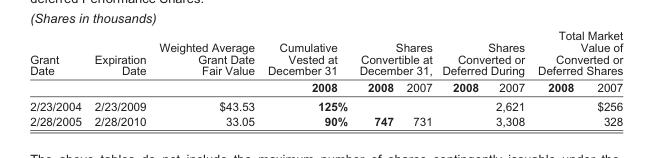table: (29, 28, 622, 126)
table column: (151, 28, 260, 126), (260, 28, 352, 126), (87, 28, 151, 126), (29, 28, 87, 126), (530, 28, 584, 126), (436, 28, 486, 126), (352, 28, 399, 126), (486, 28, 530, 126), (584, 28, 622, 126), (399, 28, 436, 126)
table column header: (29, 28, 622, 96)
table row: (29, 28, 622, 78), (29, 78, 622, 96), (29, 96, 622, 113), (29, 113, 622, 126)
table spanning cell: (151, 28, 260, 96), (260, 28, 352, 96), (436, 28, 530, 78), (530, 28, 622, 78), (87, 28, 151, 96), (352, 28, 436, 78), (29, 28, 87, 96)
